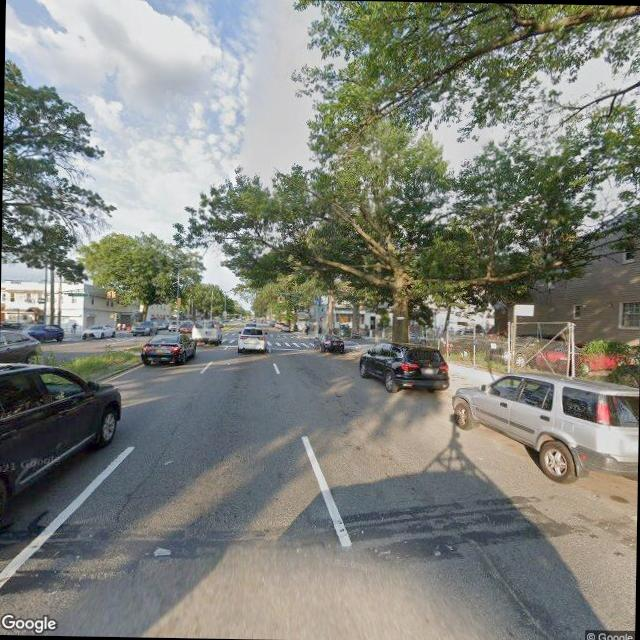pothole: (112, 418, 184, 526)
